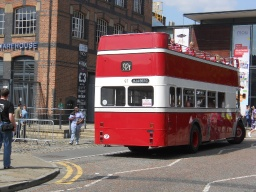bus: (94, 33, 249, 154)
person: (1, 87, 13, 170), (66, 104, 86, 145), (15, 103, 31, 141)
